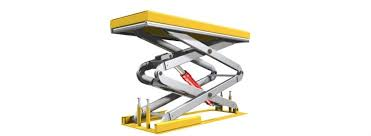Scissor Lift: (109, 10, 251, 136)
